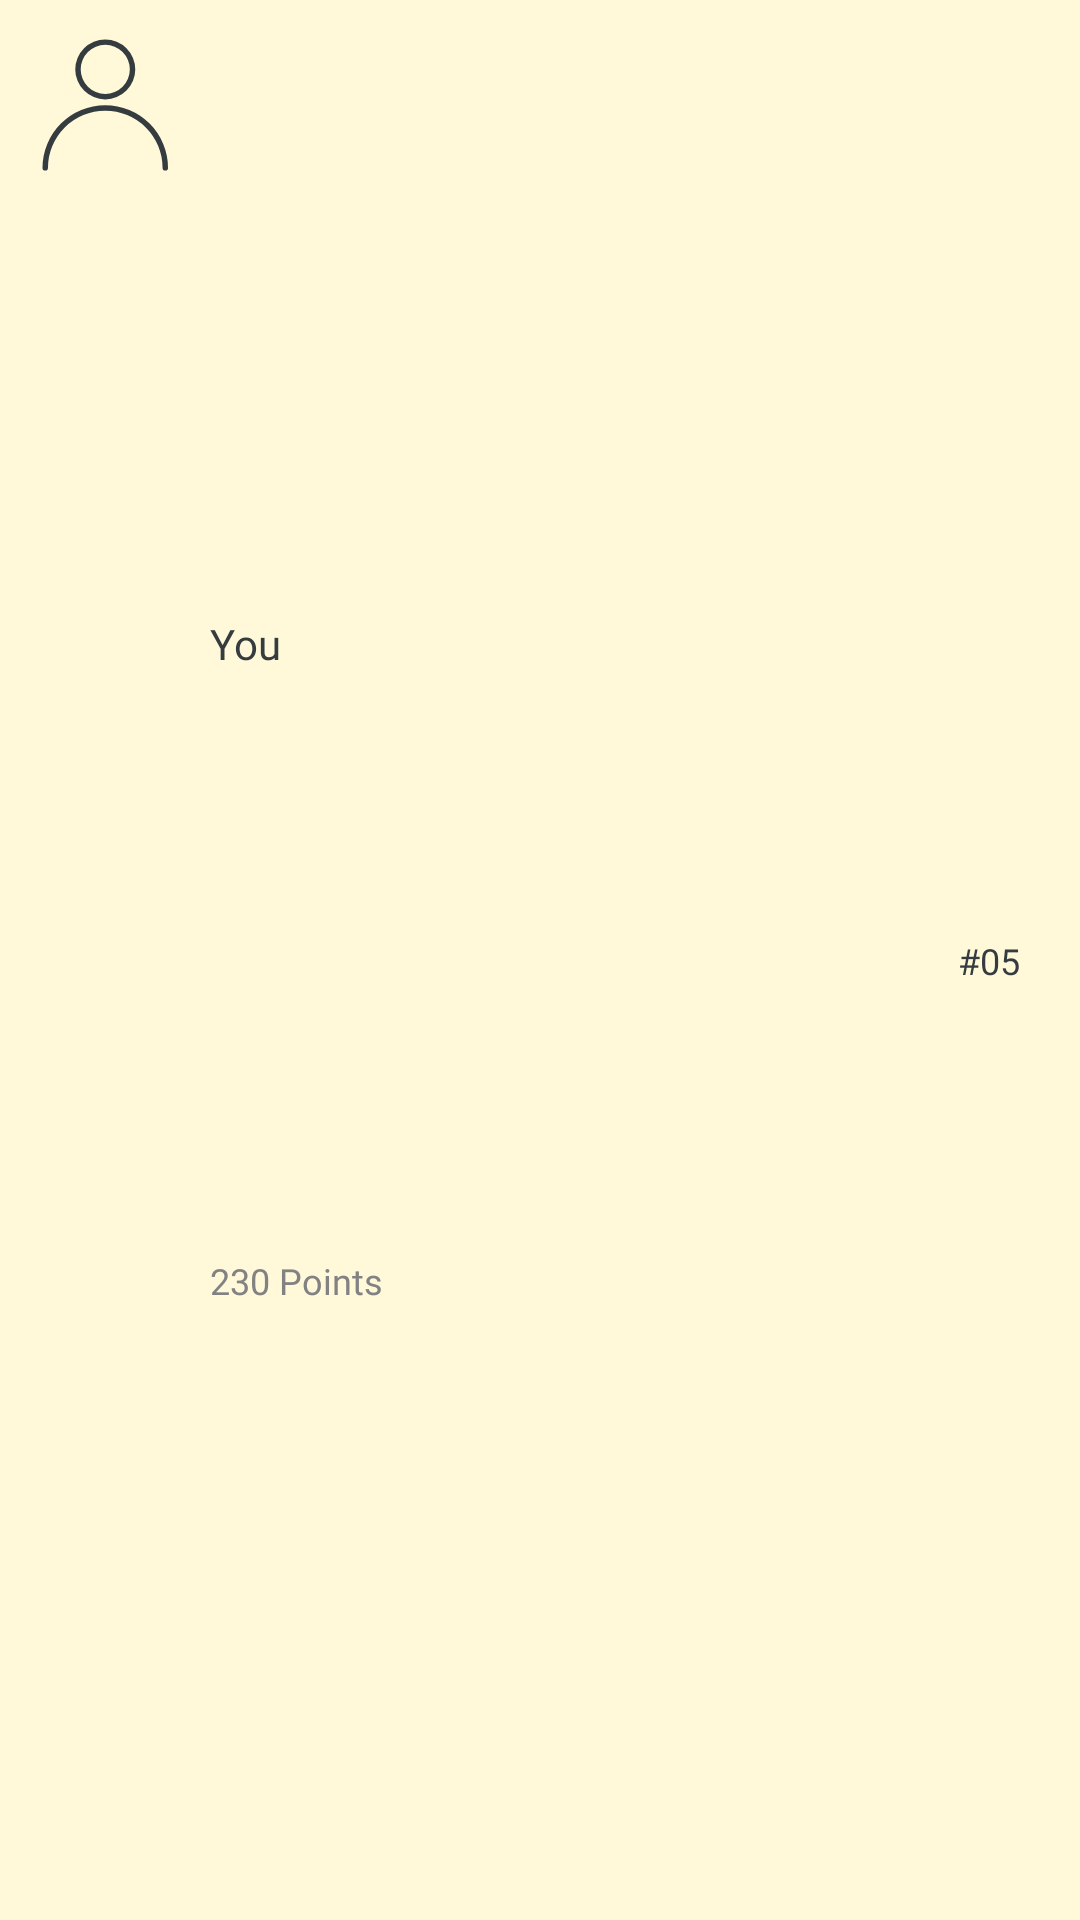

Icon bounding boxes for this 1080 × 1920 phone screenshot, format (x1, y1, x2, y2):
profile: (42, 39, 168, 171)
